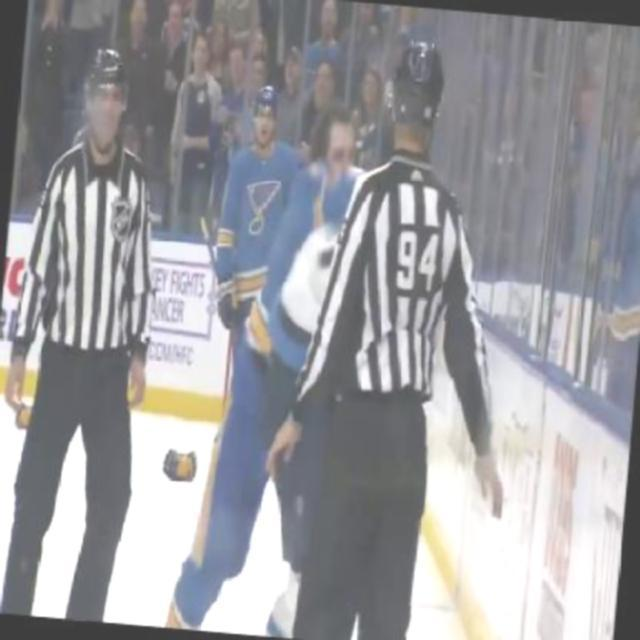fight: (226, 102, 388, 598)
non-fight: (1, 38, 174, 624), (206, 75, 306, 343)
